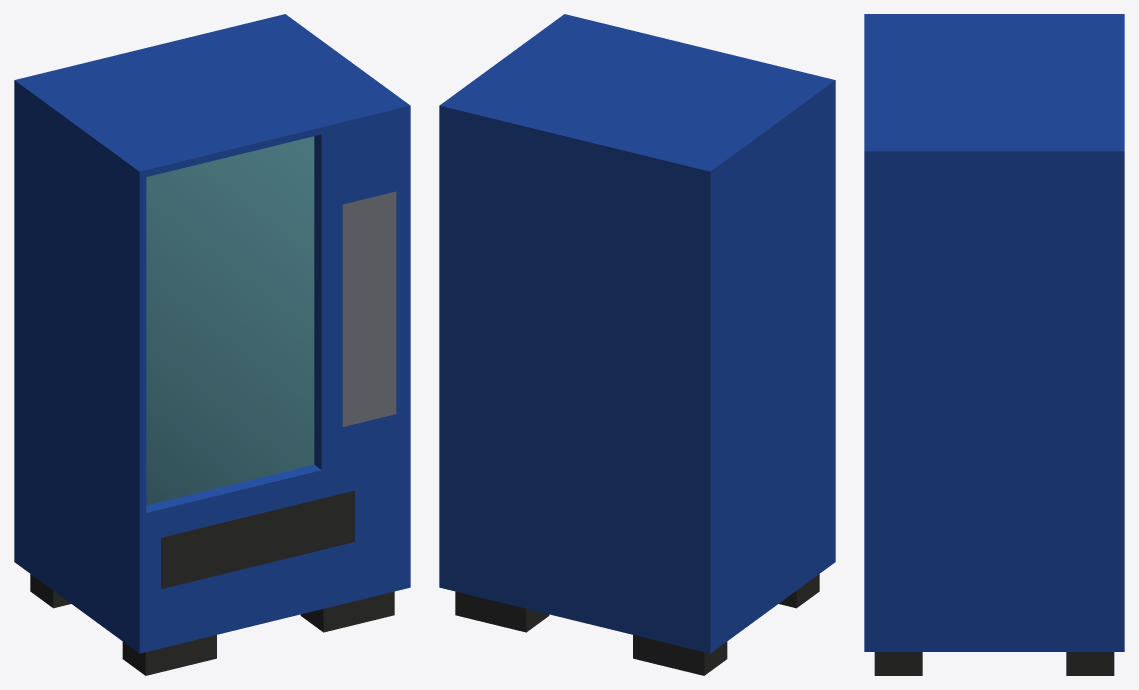
Rendered from vendingMachineBlue.fbx.
The picture shows the model from 3 angles, left to right: view 1: azimuth 30°, elevation 25°; view 2: azimuth 150°, elevation 25°; view 3: azimuth 270°, elevation 25°; orthographic projection. The views are drawn at different scales.
Parts seen in each view (by area): view 1: vendingMachineBlue; view 2: vendingMachineBlue; view 3: vendingMachineBlue.
Boxes of the visible parts, <box> form: vendingMachineBlue: <box>14,14,410,675</box>; vendingMachineBlue: <box>439,14,835,675</box>; vendingMachineBlue: <box>864,14,1124,675</box>.
Bounding box in the file's own units: 100 × 180 × 80.
Materials: 1 (1 with a texture image).
